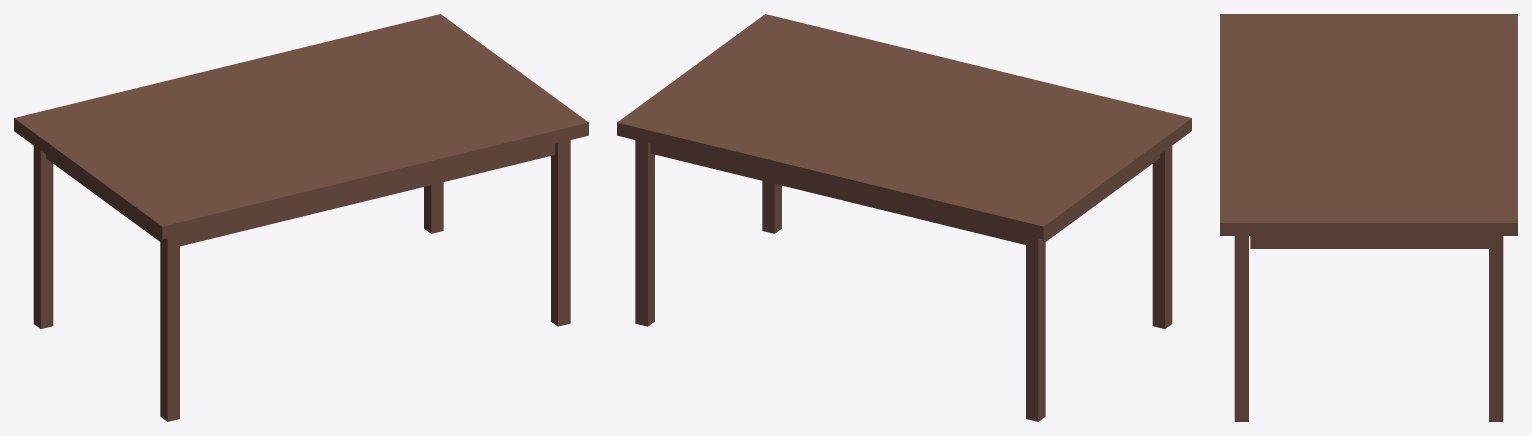
File: table.glb
3 views of the same model, side by side, from view 1: azimuth 30°, elevation 25°; view 2: azimuth 150°, elevation 25°; view 3: azimuth 270°, elevation 25° (orthographic).
Visible parts, largest first — view 1: Node; view 2: Node; view 3: Node.
Part boxes in pixels (box(x1,y1,x2,y2)): Node: box(14, 14, 588, 421); Node: box(617, 14, 1191, 421); Node: box(1220, 14, 1517, 421).
Size of the model in its own units: 1.71 by 0.78 by 1.03.
